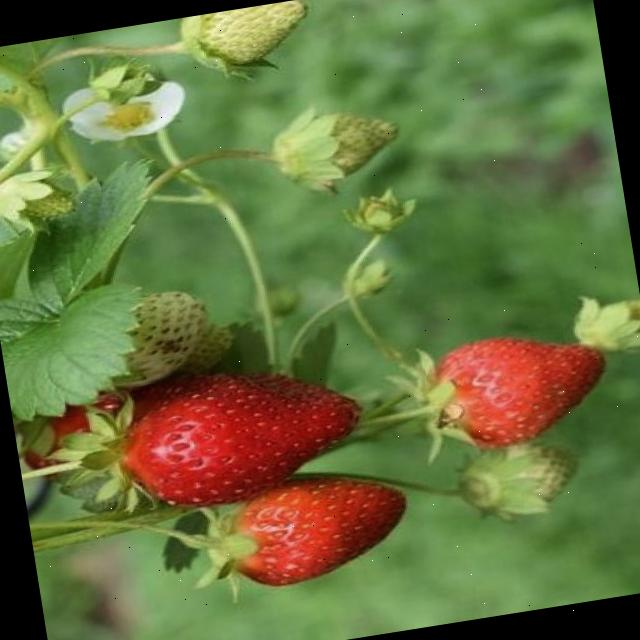strawberry: (110, 350, 369, 517), (222, 462, 416, 593), (429, 324, 612, 456), (92, 291, 214, 388), (271, 104, 404, 188), (461, 436, 582, 522), (179, 0, 313, 74), (0, 168, 76, 231)
